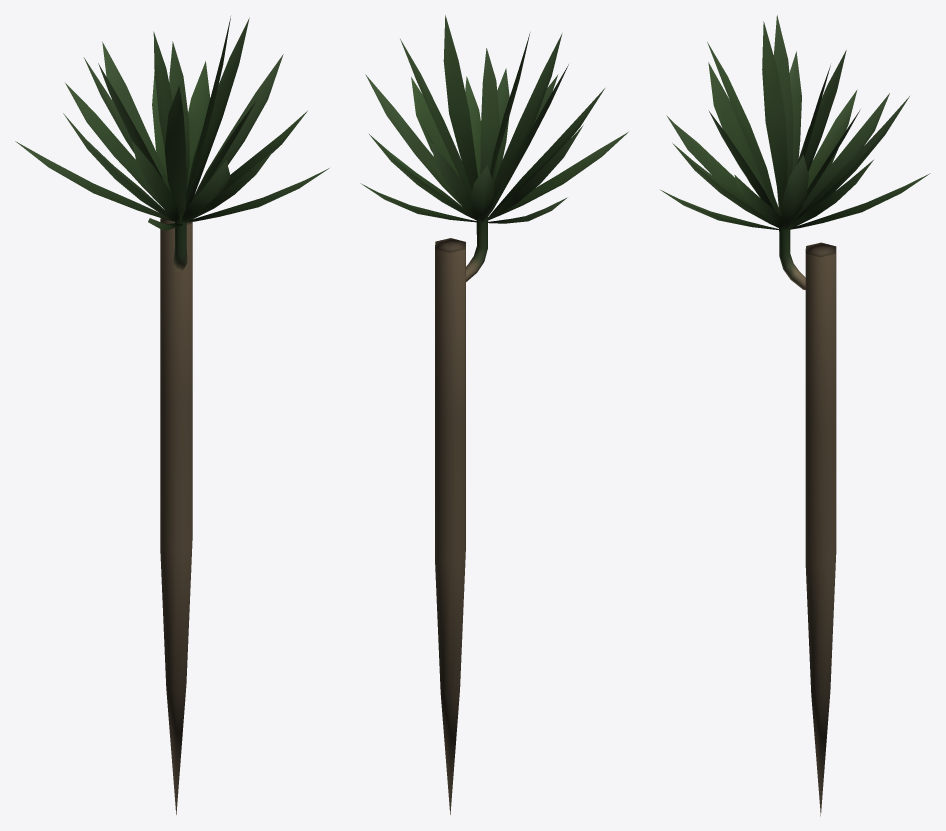
Rendered from plants-trees-palms-yucca-tree_v4.glb.
The picture shows the model from 3 angles, left to right: view 1: azimuth 30°, elevation 25°; view 2: azimuth 150°, elevation 25°; view 3: azimuth 270°, elevation 25°; orthographic projection. The views are drawn at different scales.
Parts seen in each view (by area): view 1: Yucca Tree_v4; view 2: Yucca Tree_v4; view 3: Yucca Tree_v4.
Part boxes in pixels (bbox=[...]): Yucca Tree_v4: bbox=[15, 16, 329, 814]; Yucca Tree_v4: bbox=[360, 15, 628, 814]; Yucca Tree_v4: bbox=[660, 15, 930, 816].
Bounding box in the file's own units: 0.9301 × 3 × 0.9633.
